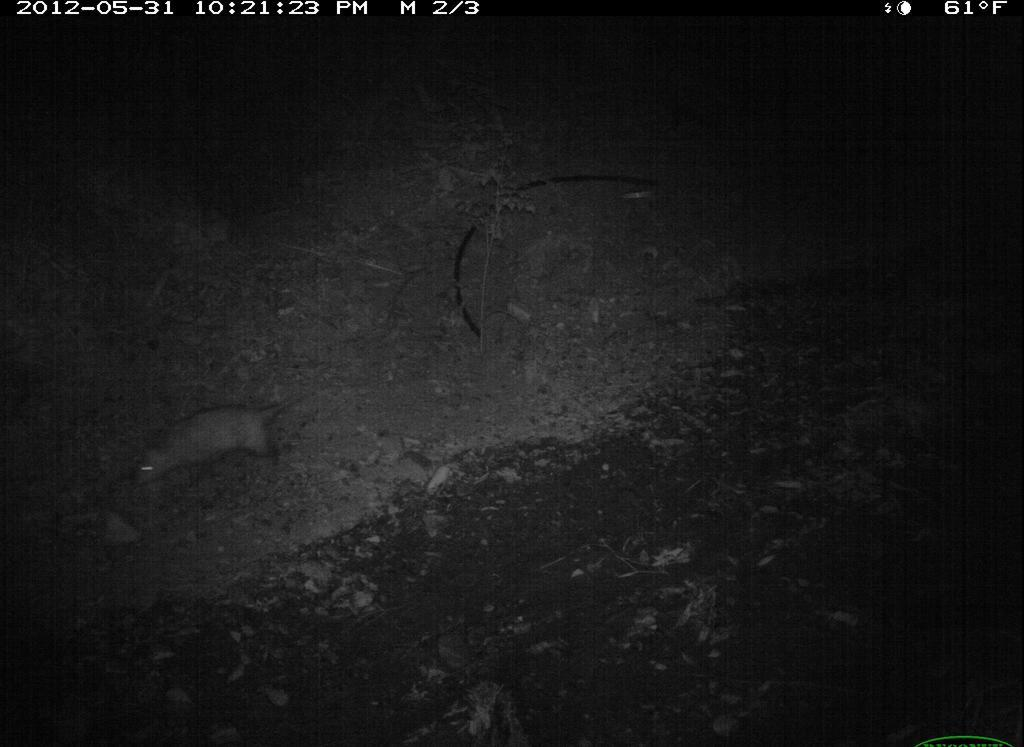opossum: (114, 382, 341, 504)
